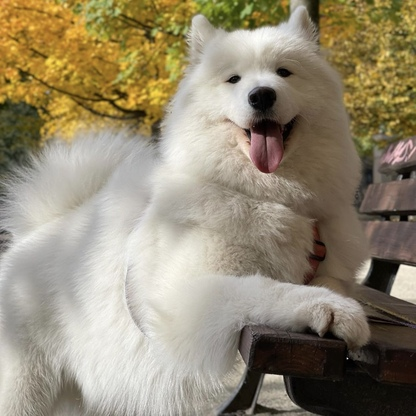samoyed: (1, 1, 382, 416)
